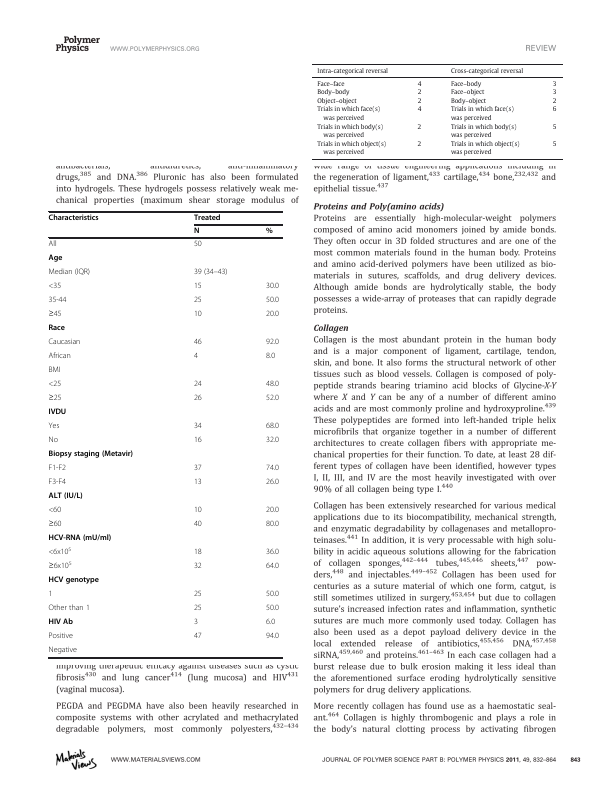borderless: (47, 210, 282, 657), (311, 62, 563, 159)
cell: (316, 140, 387, 157), (450, 140, 521, 157), (316, 122, 384, 139), (450, 122, 518, 139), (316, 105, 381, 122), (450, 105, 515, 122), (48, 450, 134, 460), (48, 534, 112, 544), (450, 67, 524, 75), (316, 67, 389, 75), (48, 576, 100, 586), (48, 214, 100, 223), (48, 268, 91, 278), (48, 604, 91, 614), (48, 492, 84, 502), (193, 268, 228, 278), (316, 97, 358, 105), (48, 338, 81, 348), (316, 88, 351, 97), (450, 88, 485, 97), (48, 646, 78, 656), (450, 97, 487, 105), (48, 561, 73, 572), (48, 547, 72, 558), (48, 618, 74, 628), (48, 632, 74, 642), (450, 80, 482, 88), (193, 214, 221, 223), (48, 352, 72, 362), (316, 80, 346, 88), (48, 296, 67, 306), (48, 408, 67, 418), (48, 464, 67, 474), (48, 478, 67, 488), (48, 324, 66, 334), (48, 254, 63, 264), (265, 282, 280, 292), (265, 296, 280, 306), (265, 310, 280, 320), (265, 338, 280, 348), (265, 380, 280, 390), (265, 394, 280, 404), (265, 422, 280, 432), (265, 436, 280, 446), (265, 464, 280, 474), (265, 478, 280, 488), (265, 506, 280, 516), (265, 520, 280, 530), (265, 548, 280, 558), (265, 562, 280, 572), (265, 590, 280, 600), (265, 604, 280, 614), (265, 632, 280, 642), (48, 282, 62, 292), (48, 310, 62, 320), (48, 380, 62, 390), (48, 394, 62, 404), (48, 506, 62, 516), (48, 520, 62, 530), (48, 366, 61, 376), (48, 422, 60, 432), (265, 352, 276, 362), (48, 436, 59, 446), (265, 618, 276, 628), (193, 240, 203, 250), (193, 282, 203, 292), (193, 296, 203, 306), (193, 310, 203, 320), (193, 338, 203, 348), (193, 380, 203, 390), (193, 394, 203, 404), (193, 422, 203, 432), (193, 436, 203, 446), (193, 464, 203, 474), (193, 478, 203, 488), (193, 506, 203, 516), (193, 520, 203, 530), (193, 548, 203, 558), (193, 562, 203, 572), (193, 590, 203, 600), (193, 604, 203, 614), (193, 632, 203, 642), (265, 227, 274, 237), (48, 240, 57, 250), (193, 227, 200, 237), (193, 352, 199, 362), (193, 618, 199, 628), (552, 88, 558, 97), (552, 105, 558, 114), (552, 122, 558, 131), (48, 590, 53, 600), (552, 80, 558, 88), (552, 97, 558, 105), (552, 140, 558, 148), (417, 88, 422, 97), (417, 105, 422, 114), (417, 122, 422, 131), (417, 80, 422, 88), (417, 97, 422, 105), (417, 140, 422, 148)
